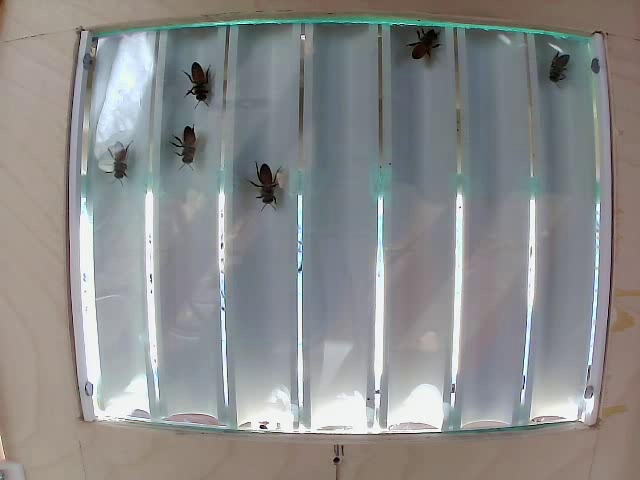bee: (159, 120, 205, 167), (544, 48, 585, 100), (93, 146, 143, 186), (248, 165, 287, 215), (180, 61, 220, 103), (413, 28, 448, 74)
